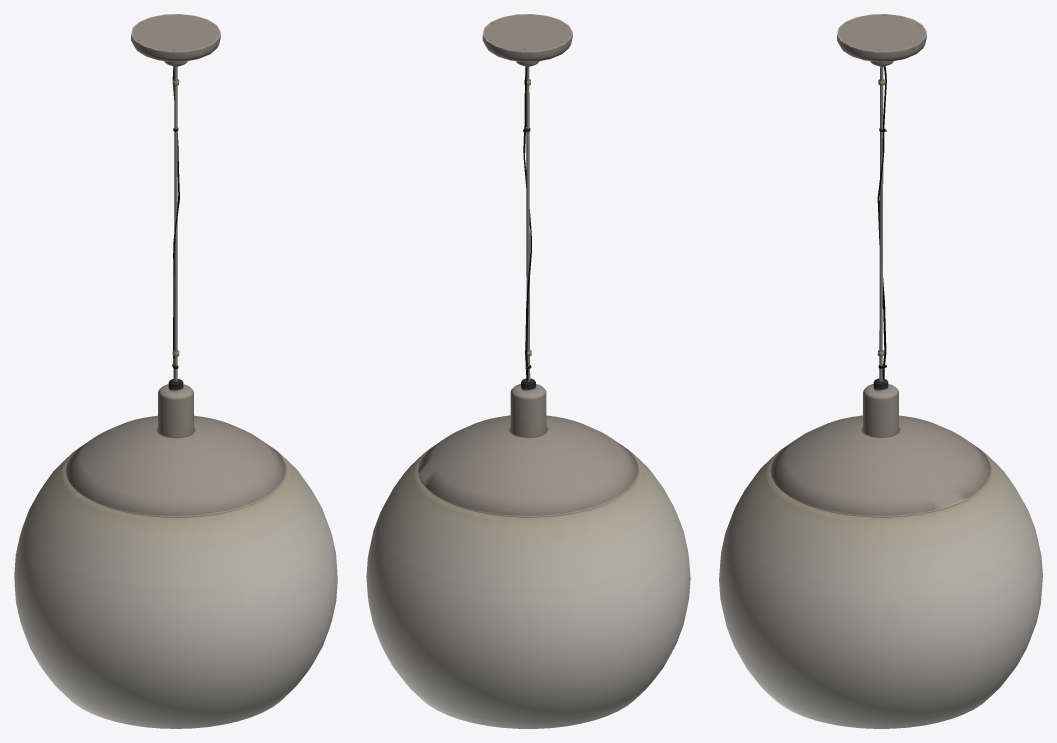
File: modern_ceiling_lamp_01.glb
The picture shows the model from 3 angles, left to right: view 1: azimuth 30°, elevation 25°; view 2: azimuth 150°, elevation 25°; view 3: azimuth 270°, elevation 25°; orthographic projection.
Visible parts, largest first — view 1: modern_ceiling_lamp_01; view 2: modern_ceiling_lamp_01; view 3: modern_ceiling_lamp_01.
Boxes of the visible parts, x1,y1,x2,y2 form: modern_ceiling_lamp_01: [14, 14, 337, 728]; modern_ceiling_lamp_01: [366, 14, 690, 728]; modern_ceiling_lamp_01: [719, 14, 1042, 728].
Size of the model in its own units: 0.4316 by 0.9512 by 0.4317.
Materials: 2 (2 with a texture image).
